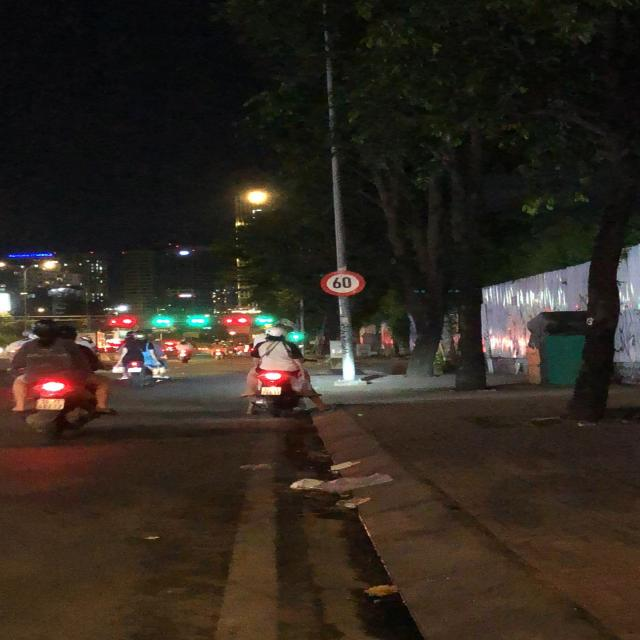Bien bao toc do toi da cho phep: (319, 268, 369, 298)
